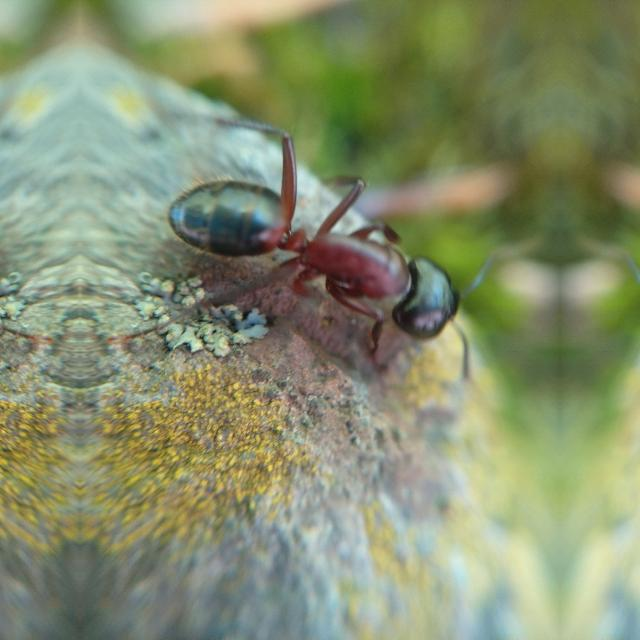Camponotus: (144, 113, 501, 393)
